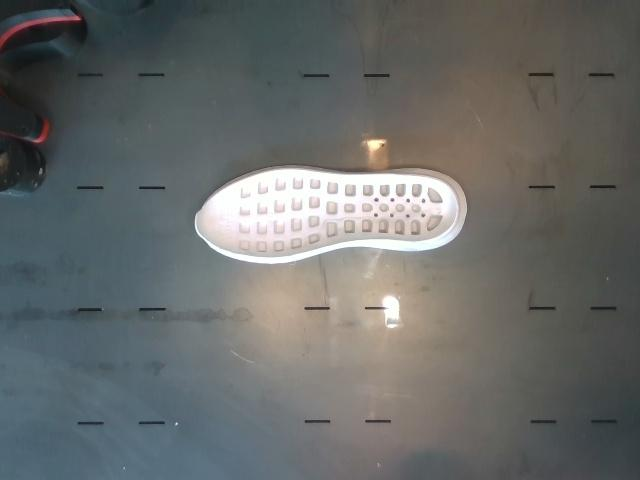shoes: (196, 169, 461, 258)
